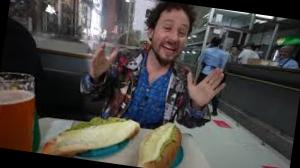Completos: (41, 105, 142, 166), (134, 120, 187, 168)
